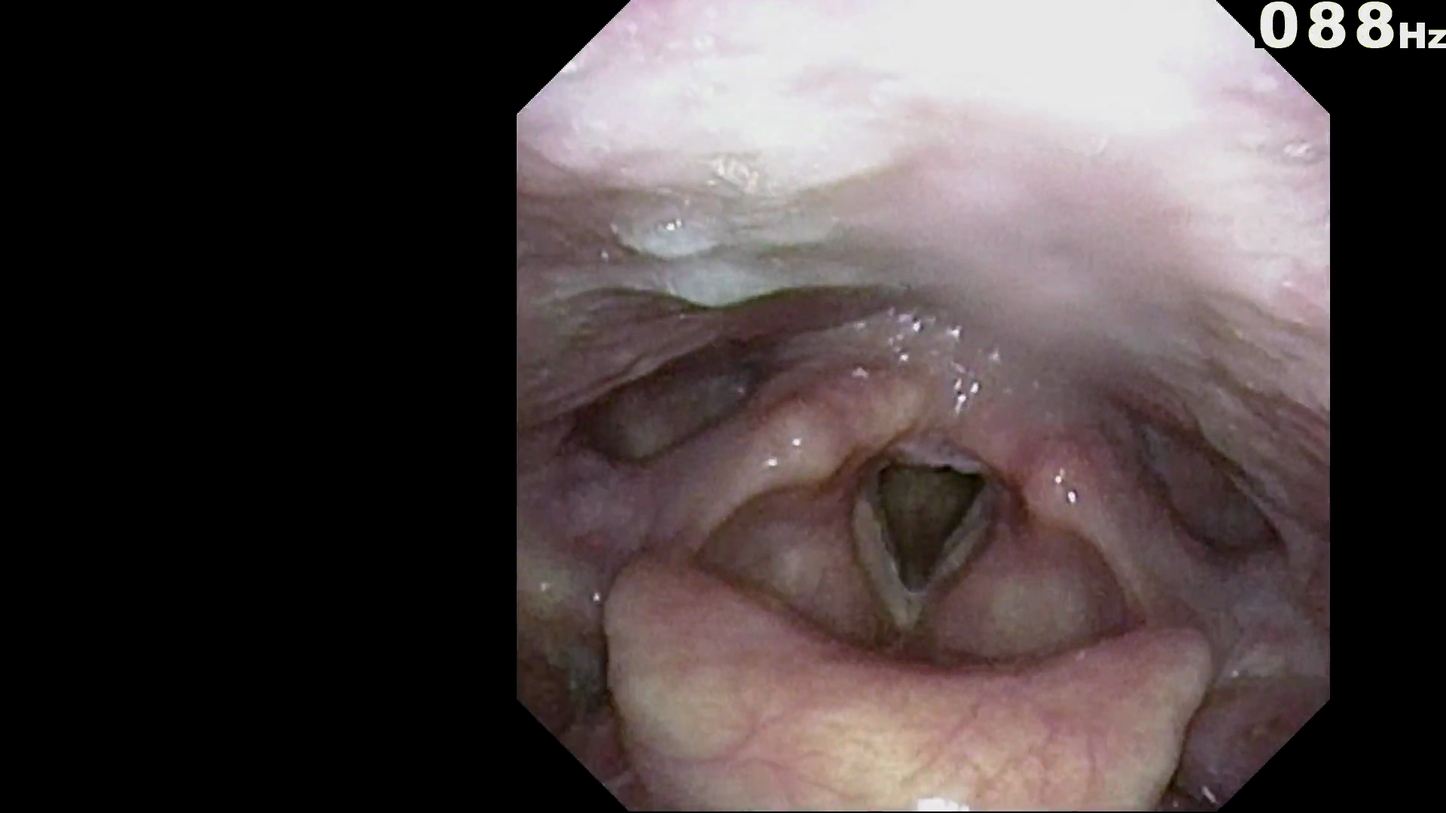epiglottis: (625, 601, 1184, 779)
trachea: (859, 449, 979, 618)
